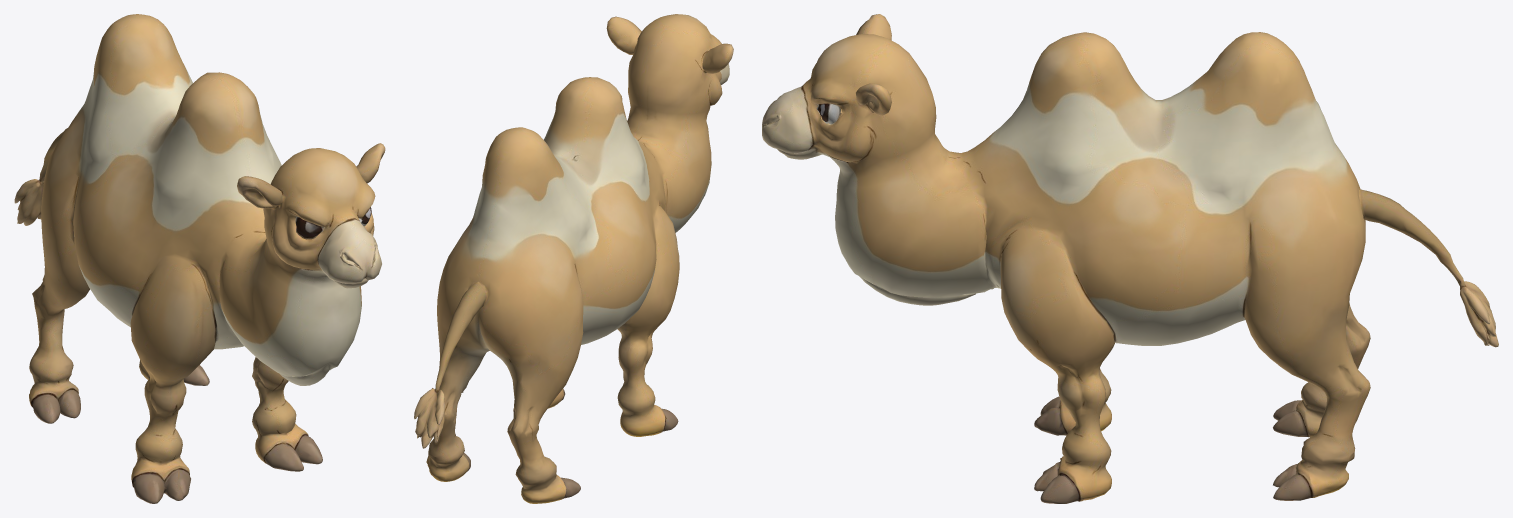
3 views of the same model, side by side, from view 1: azimuth 30°, elevation 25°; view 2: azimuth 150°, elevation 25°; view 3: azimuth 270°, elevation 25° (orthographic). The views are drawn at different scales.
Parts seen in each view (by area): view 1: geometry_0; view 2: geometry_0; view 3: geometry_0.
Part boxes in pixels (left/top/right/bottom): geometry_0: left=14, top=14, right=385, bottom=503; geometry_0: left=414, top=14, right=733, bottom=503; geometry_0: left=762, top=14, right=1498, bottom=503.
Bounding box in the file's own units: 0.3013 × 0.6045 × 0.9561.
1 material, 1 textured.
